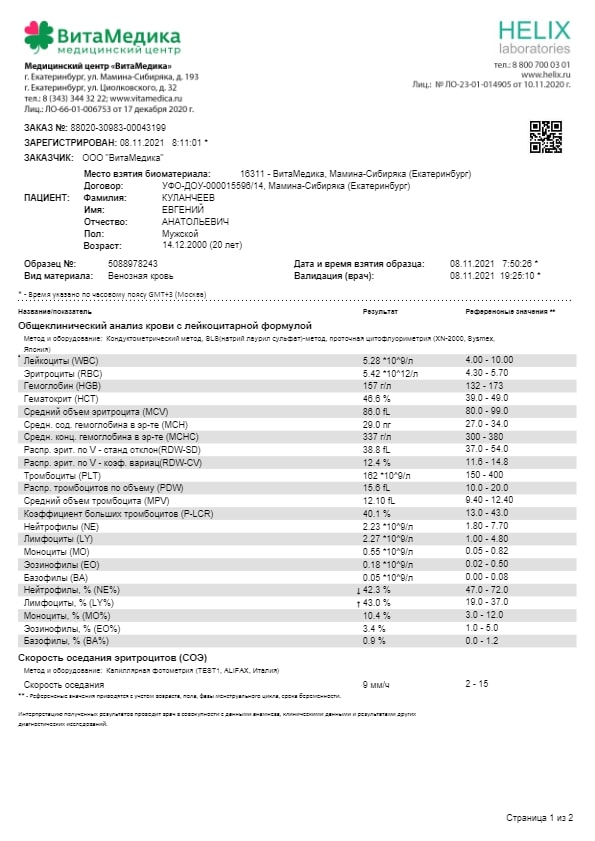column: (20, 355, 215, 647), (361, 355, 419, 647), (463, 355, 515, 647), (23, 678, 104, 689), (465, 308, 548, 316), (17, 308, 92, 316), (362, 678, 390, 689), (362, 308, 398, 316), (464, 678, 488, 689)
